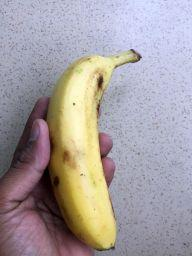Banana Ripe: (43, 42, 150, 250)
